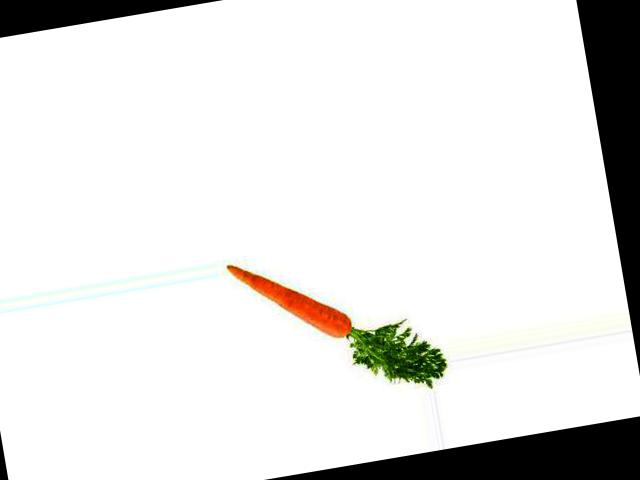carrot: (221, 243, 357, 357)
